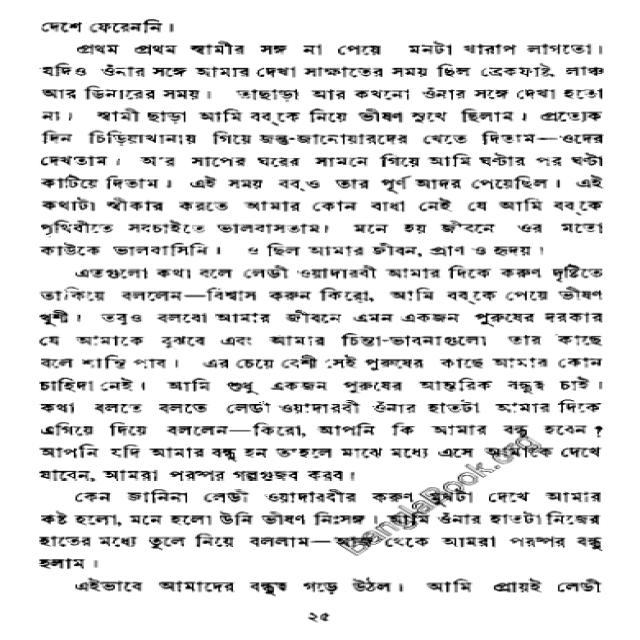page number: (301, 608, 335, 627)
paragraph: (30, 265, 610, 483), (33, 40, 608, 253), (21, 486, 617, 574), (51, 573, 602, 601), (34, 15, 176, 37)
text: (353, 425, 544, 557)
